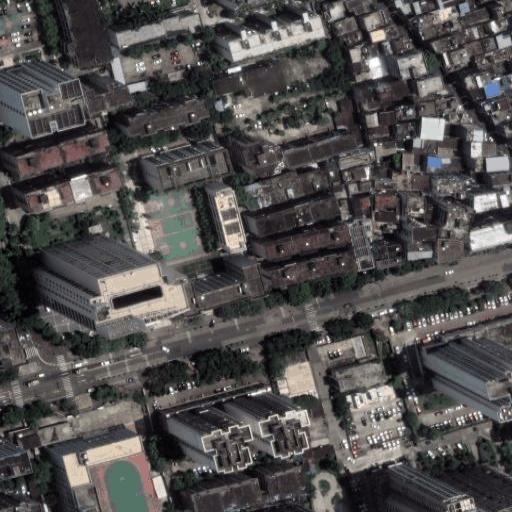building: (18, 233, 131, 312), (0, 119, 103, 173), (380, 468, 499, 512), (9, 151, 110, 198), (240, 169, 331, 212), (427, 339, 496, 395), (244, 194, 331, 237), (261, 248, 350, 288), (140, 140, 215, 184), (255, 223, 343, 260), (182, 248, 251, 295), (111, 84, 196, 122), (103, 6, 191, 42), (425, 319, 512, 355), (0, 61, 52, 119), (53, 439, 93, 512), (178, 471, 249, 512), (280, 133, 358, 169), (161, 400, 214, 450), (218, 385, 270, 435), (271, 344, 317, 397), (312, 328, 371, 366), (199, 172, 232, 239), (75, 424, 137, 456), (287, 393, 326, 443), (409, 4, 460, 41), (333, 359, 384, 391), (222, 127, 263, 166), (465, 209, 512, 242), (69, 67, 116, 99), (245, 62, 289, 96), (426, 24, 477, 53), (360, 82, 409, 111), (347, 222, 374, 273), (434, 199, 466, 235), (470, 43, 512, 68), (369, 242, 404, 271), (253, 463, 288, 491), (386, 49, 418, 78), (374, 181, 396, 223), (345, 49, 369, 85), (469, 190, 505, 213), (338, 98, 360, 135), (213, 71, 248, 94), (362, 46, 384, 81), (34, 423, 69, 445), (438, 45, 466, 72), (337, 152, 375, 171), (456, 6, 488, 28), (0, 321, 17, 362), (121, 75, 151, 97), (395, 174, 430, 192), (0, 494, 35, 512), (427, 157, 461, 175), (419, 118, 445, 141), (485, 13, 512, 35), (459, 70, 488, 90), (437, 239, 462, 262), (334, 15, 360, 37), (473, 156, 508, 172), (487, 71, 512, 93), (342, 29, 369, 49), (363, 9, 388, 30), (459, 38, 485, 58), (416, 77, 443, 96), (326, 2, 350, 23), (441, 111, 472, 127), (15, 427, 37, 449), (334, 198, 353, 223), (406, 224, 432, 242), (434, 179, 470, 192), (373, 138, 396, 158), (324, 161, 341, 188), (483, 59, 507, 78), (435, 137, 456, 158), (487, 108, 511, 126), (343, 168, 370, 184), (469, 142, 496, 158), (400, 152, 419, 174), (393, 121, 416, 139), (435, 97, 458, 115), (391, 105, 415, 122), (152, 474, 169, 498), (485, 97, 508, 114), (402, 241, 428, 256), (412, 139, 436, 155), (406, 197, 424, 218), (382, 21, 400, 41), (466, 129, 490, 144), (409, 0, 434, 14), (414, 103, 437, 118), (472, 20, 490, 39), (489, 173, 512, 187), (367, 126, 388, 141), (478, 81, 495, 99), (465, 85, 482, 103), (481, 34, 499, 51), (495, 29, 512, 47), (348, 181, 371, 193), (331, 185, 347, 202), (370, 25, 386, 42), (413, 94, 436, 105), (396, 2, 412, 17), (377, 112, 393, 127), (497, 0, 512, 15), (383, 39, 397, 55), (363, 114, 379, 128), (353, 197, 370, 210), (452, 1, 467, 15), (487, 4, 502, 18), (332, 113, 344, 129), (393, 38, 406, 52), (477, 98, 488, 114), (501, 124, 512, 139), (356, 208, 371, 219), (353, 131, 363, 146), (469, 172, 484, 182), (395, 199, 401, 216), (506, 56, 512, 72), (453, 192, 465, 199), (507, 103, 512, 119)
